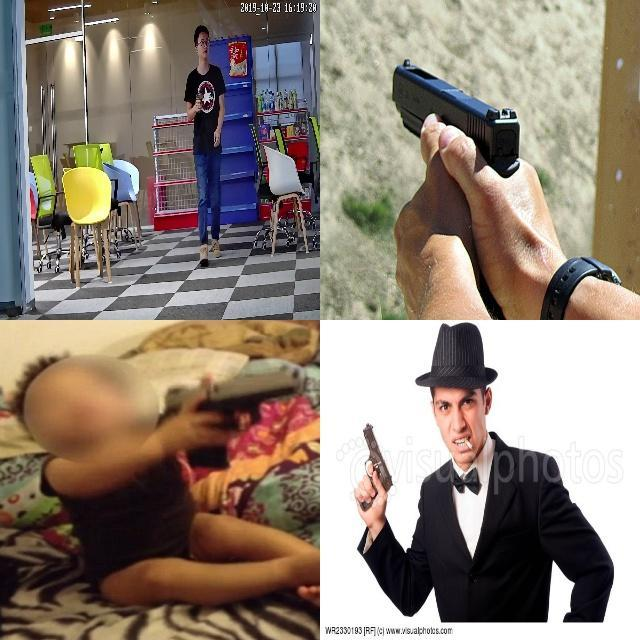gun-knife-thesis - v11 Yolov5 augmented: (386, 53, 521, 202), (164, 367, 300, 470), (350, 422, 393, 511), (191, 88, 206, 111)
